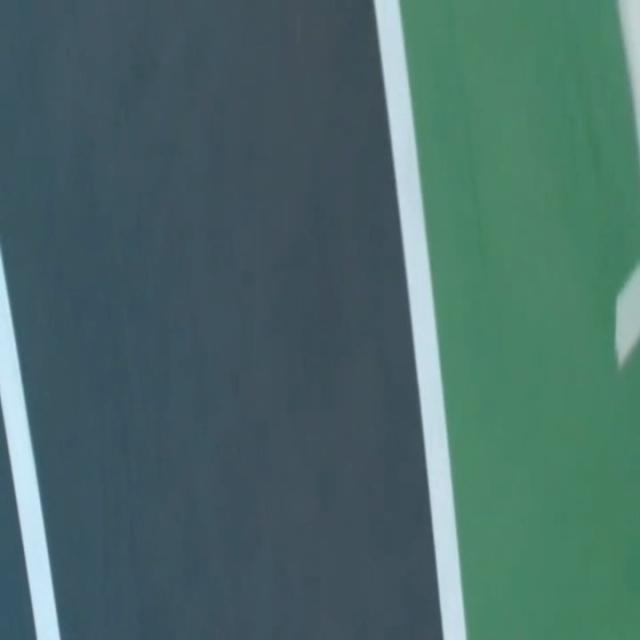center: (0, 247, 60, 639)
right: (373, 0, 466, 639)
